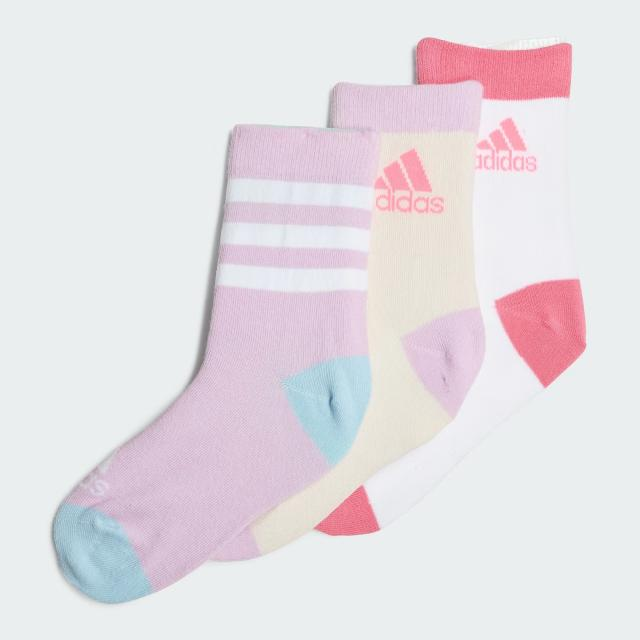sock: (51, 121, 382, 604), (312, 36, 588, 536), (210, 78, 487, 562)
